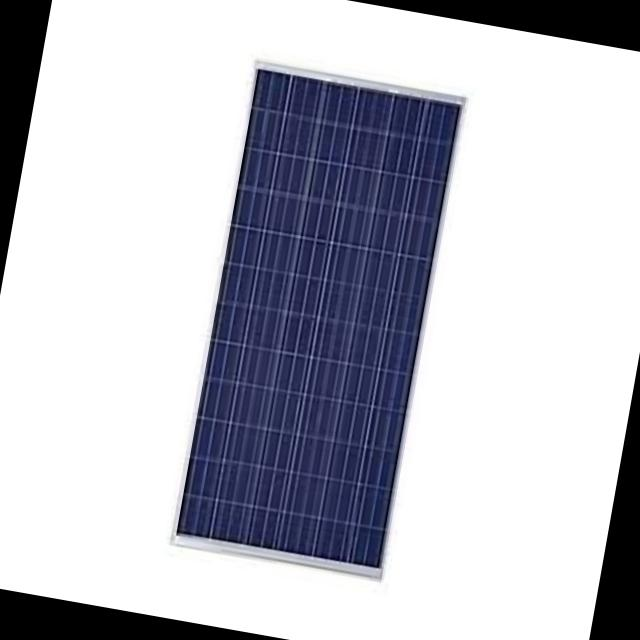no faulty: (177, 77, 453, 565)
